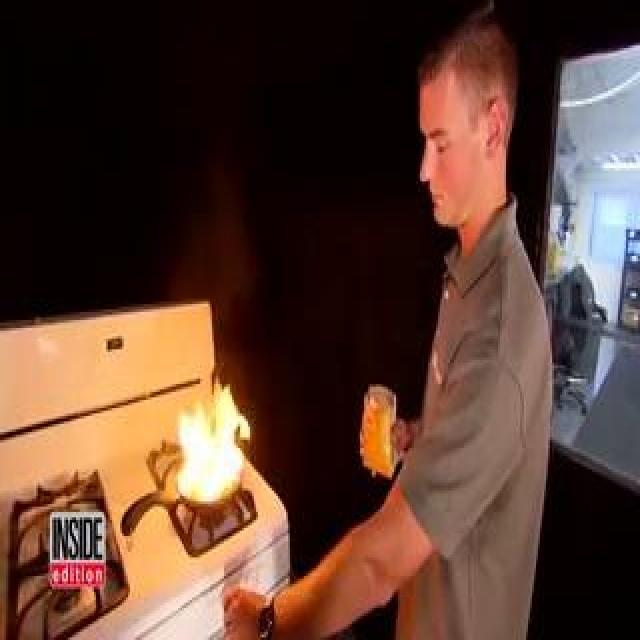Fire: (66, 138, 206, 438)
